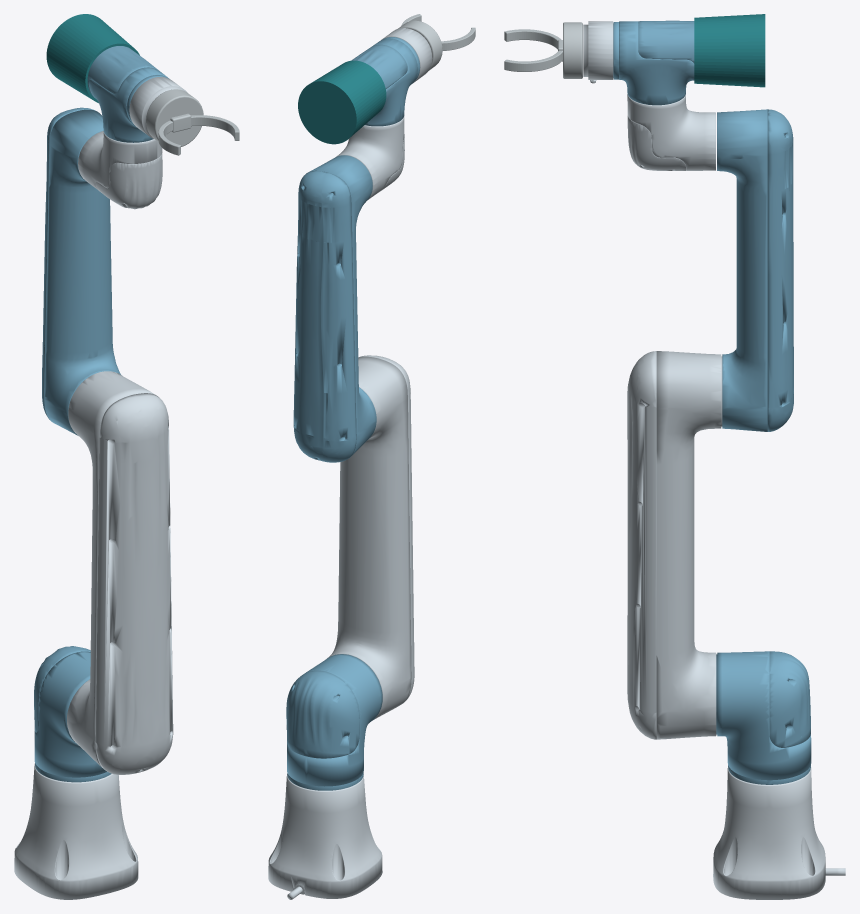
The model's file is nova5_coffee.glb.
The picture shows the model from 3 angles, left to right: view 1: azimuth 30°, elevation 25°; view 2: azimuth 150°, elevation 25°; view 3: azimuth 270°, elevation 25°; orthographic projection. The views are drawn at different scales.
Visible parts, largest first — view 1: nova5_coffee / Link2 visual, nova5_coffee / Link3 visual, nova5_coffee / base_link visual, nova5_coffee / Link1 visual, nova5_coffee / Link4 visual, nova5_coffee / Link5 visual, Printed truncated-cone cup stamp, Cup tong flange, nova5_coffee / Link6 visual, Left curved cup tong / 85 mm ID; view 2: nova5_coffee / Link2 visual, nova5_coffee / Link3 visual, nova5_coffee / base_link visual, nova5_coffee / Link1 visual, Printed truncated-cone cup stamp, nova5_coffee / Link5 visual, nova5_coffee / Link4 visual, nova5_coffee / Link6 visual, Cup tong flange; view 3: nova5_coffee / Link2 visual, nova5_coffee / Link3 visual, nova5_coffee / base_link visual, nova5_coffee / Link1 visual, nova5_coffee / Link5 visual, nova5_coffee / Link4 visual, Printed truncated-cone cup stamp, nova5_coffee / Link6 visual, Cup tong flange, Left curved cup tong / 85 mm ID.
Boxes of the visible parts, box(x1,y1,x2,y2) form: nova5_coffee / Link2 visual: box(67, 371, 173, 774); nova5_coffee / Link3 visual: box(42, 107, 120, 435); nova5_coffee / base_link visual: box(14, 764, 138, 899); nova5_coffee / Link1 visual: box(34, 646, 111, 782); nova5_coffee / Link4 visual: box(78, 131, 162, 209); nova5_coffee / Link5 visual: box(87, 46, 169, 142); Printed truncated-cone cup stamp: box(46, 14, 139, 103); Cup tong flange: box(146, 89, 203, 146); nova5_coffee / Link6 visual: box(129, 77, 187, 138); Left curved cup tong / 85 mm ID: box(191, 115, 239, 140); nova5_coffee / Link2 visual: box(327, 355, 414, 720); nova5_coffee / Link3 visual: box(293, 155, 376, 462); nova5_coffee / base_link visual: box(268, 774, 382, 899); nova5_coffee / Link1 visual: box(286, 654, 382, 790); Printed truncated-cone cup stamp: box(298, 60, 386, 144); nova5_coffee / Link5 visual: box(351, 37, 420, 126); nova5_coffee / Link4 visual: box(336, 116, 404, 199); nova5_coffee / Link6 visual: box(381, 28, 432, 82); Cup tong flange: box(398, 20, 442, 70); nova5_coffee / Link2 visual: box(627, 351, 722, 739); nova5_coffee / Link3 visual: box(717, 109, 793, 431); nova5_coffee / base_link visual: box(713, 767, 845, 899); nova5_coffee / Link1 visual: box(716, 651, 811, 784); nova5_coffee / Link5 visual: box(613, 20, 694, 105); nova5_coffee / Link4 visual: box(627, 94, 715, 170); Printed truncated-cone cup stamp: box(694, 14, 765, 87); nova5_coffee / Link6 visual: box(583, 21, 613, 83); Cup tong flange: box(563, 22, 582, 78); Left curved cup tong / 85 mm ID: box(504, 50, 562, 71).
Size of the model in its own units: 0.135 by 1.13 by 0.4083.
